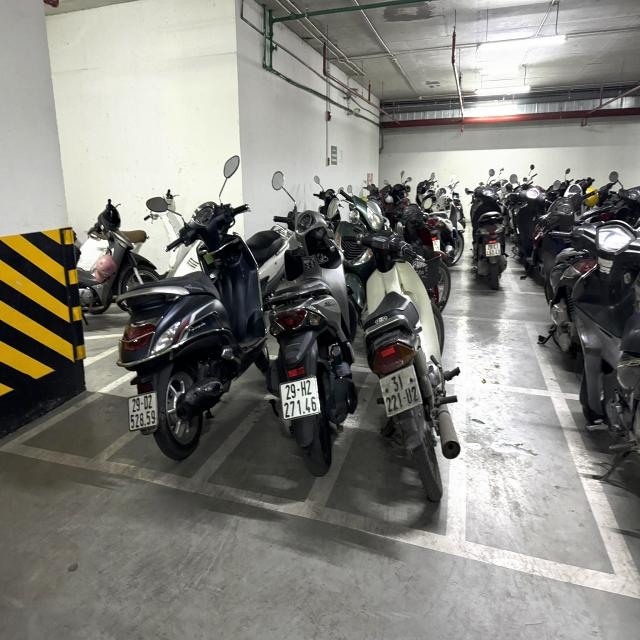license_plate: (381, 366, 423, 418), (281, 378, 320, 420), (128, 392, 160, 432), (487, 244, 503, 257)
